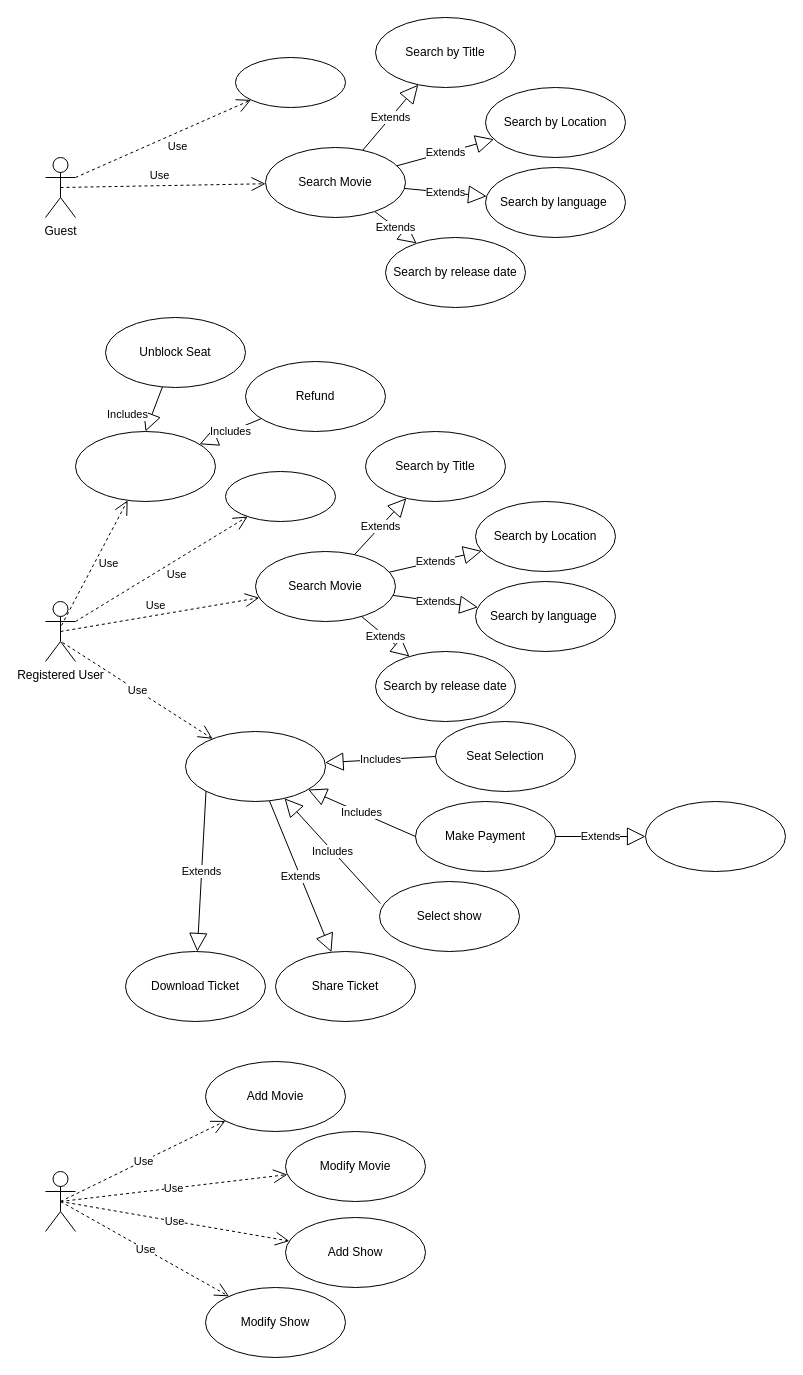
This 803x1375 diagram has some shape labels left out. The shapes that lost their labels are listed below. From the top down, each one's centre as x and y in pixels, then its label:
[290,82]: Register
[145,466]: Cancel Ticket
[280,496]: Login
[255,766]: Book Ticket
[715,836]: Apply coupon
[60,1201]: Admin
